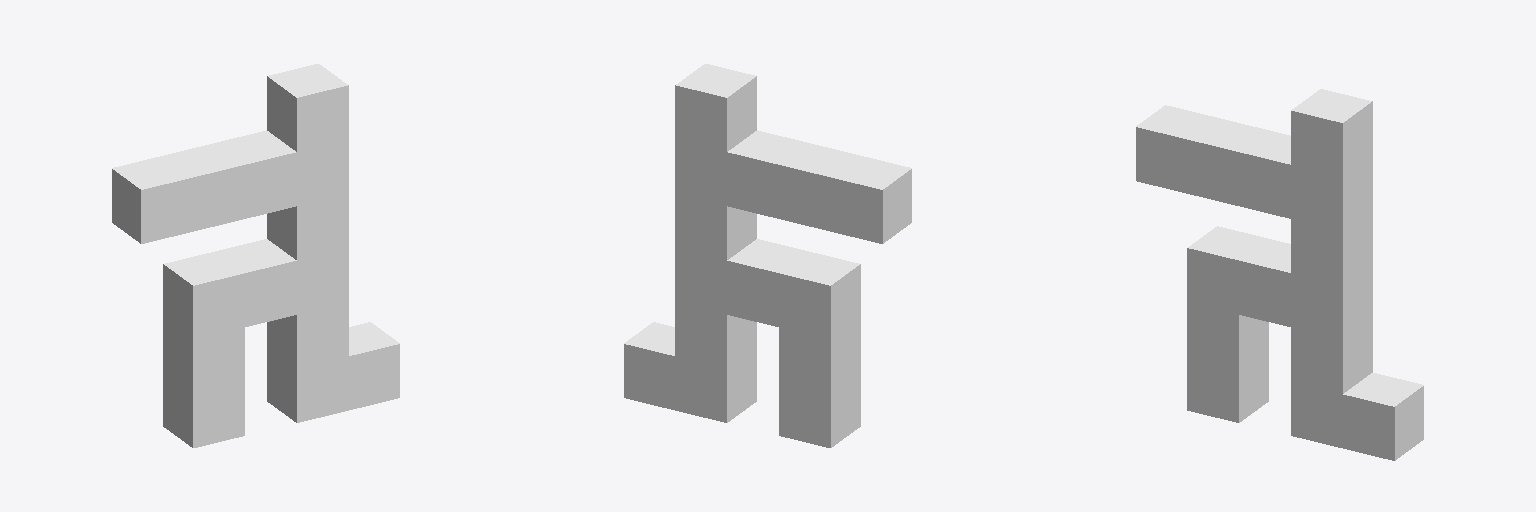
Rendered from GermanSniper.obj.
3 renders of one model, left to right at view 1: azimuth 30°, elevation 25°; view 2: azimuth 150°, elevation 25°; view 3: azimuth 330°, elevation 25°, orthographic.
Bounding box in the file's own units: 5 × 6 × 1.